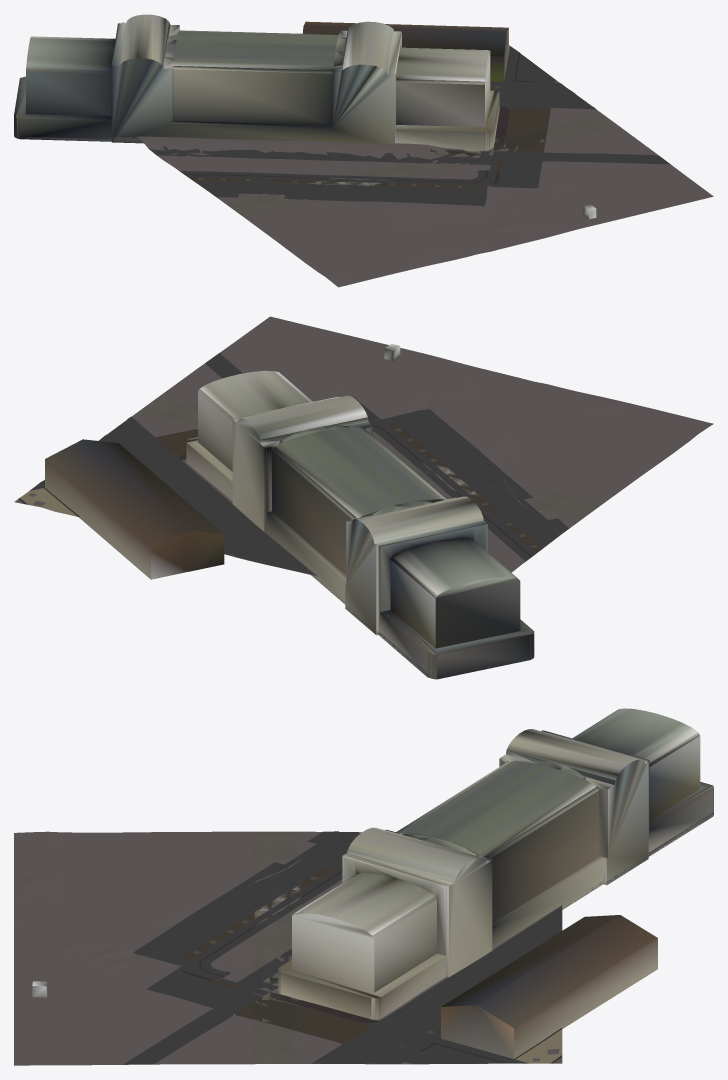
The picture shows the model from 3 angles, top to bottom: view 1: azimuth 30°, elevation 25°; view 2: azimuth 150°, elevation 25°; view 3: azimuth 270°, elevation 25°; orthographic projection. The views are drawn at different scales.
Visible parts, largest first — view 1: c_p05_p03; view 2: c_p05_p03; view 3: c_p05_p03.
Boxes of the visible parts, box(x1,y1,x2,y2) form: c_p05_p03: box(14, 14, 713, 287); c_p05_p03: box(14, 316, 713, 679); c_p05_p03: box(14, 708, 713, 1065).
Bounding box in the file's own units: 157 × 27.93 × 163.
